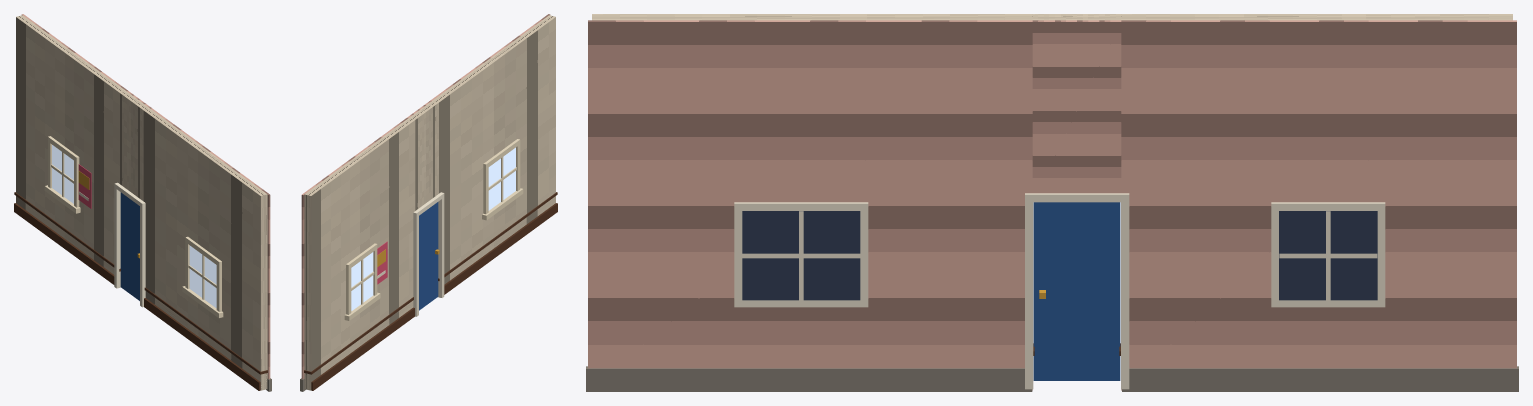
File: left.glb
3 renders of one model, left to right at view 1: azimuth 30°, elevation 25°; view 2: azimuth 150°, elevation 25°; view 3: azimuth 270°, elevation 25°, orthographic. The views are drawn at different scales.
Parts seen in each view (by area): view 1: Box3, Box1, Box5, Box14, Box4, Box25, Box2, Box8, Box44, Box36, Box42, Box11 (+11 smaller); view 2: Box3, Box1, Box5, Box14, Box4, Box2, Box25, Box6, Box36, Box42, Box44, Box12 (+11 smaller); view 3: Box8, Box6, Box14, Box10, Box9, Box18, Box7, Box29, Box17, Box28, Box3, Box1 (+3 smaller).
Boxes of the visible parts, x1,y1,x2,y2 form: Box3: [143, 108, 267, 390]; Box1: [16, 15, 126, 273]; Box5: [120, 91, 149, 201]; Box14: [120, 192, 139, 300]; Box4: [144, 298, 260, 390]; Box25: [189, 245, 216, 308]; Box2: [14, 203, 114, 284]; Box8: [151, 108, 270, 379]; Box44: [145, 291, 267, 389]; Box36: [52, 145, 73, 203]; Box42: [16, 196, 114, 274]; Box11: [114, 182, 120, 288]; Box3: [432, 15, 555, 284]; Box1: [304, 118, 415, 390]; Box5: [409, 101, 438, 210]; Box14: [419, 202, 438, 310]; Box4: [444, 203, 557, 294]; Box2: [311, 307, 414, 390]; Box25: [488, 147, 515, 210]; Box6: [301, 118, 408, 379]; Box36: [351, 252, 373, 310]; Box42: [305, 300, 413, 389]; Box44: [444, 196, 555, 283]; Box12: [438, 192, 444, 297]; Box8: [588, 20, 1032, 390]; Box6: [1121, 20, 1516, 390]; Box14: [1033, 202, 1120, 380]; Box10: [1032, 20, 1121, 193]; Box9: [586, 366, 1032, 391]; Box18: [742, 211, 860, 300]; Box7: [1122, 366, 1518, 391]; Box29: [1279, 211, 1377, 300]; Box17: [734, 202, 868, 307]; Box28: [1271, 202, 1385, 307]; Box3: [592, 14, 1032, 20]; Box1: [1121, 14, 1512, 20].
Size of the model in its own units: 0.338 by 4.14 by 9.47.
11 materials, 2 textured.
